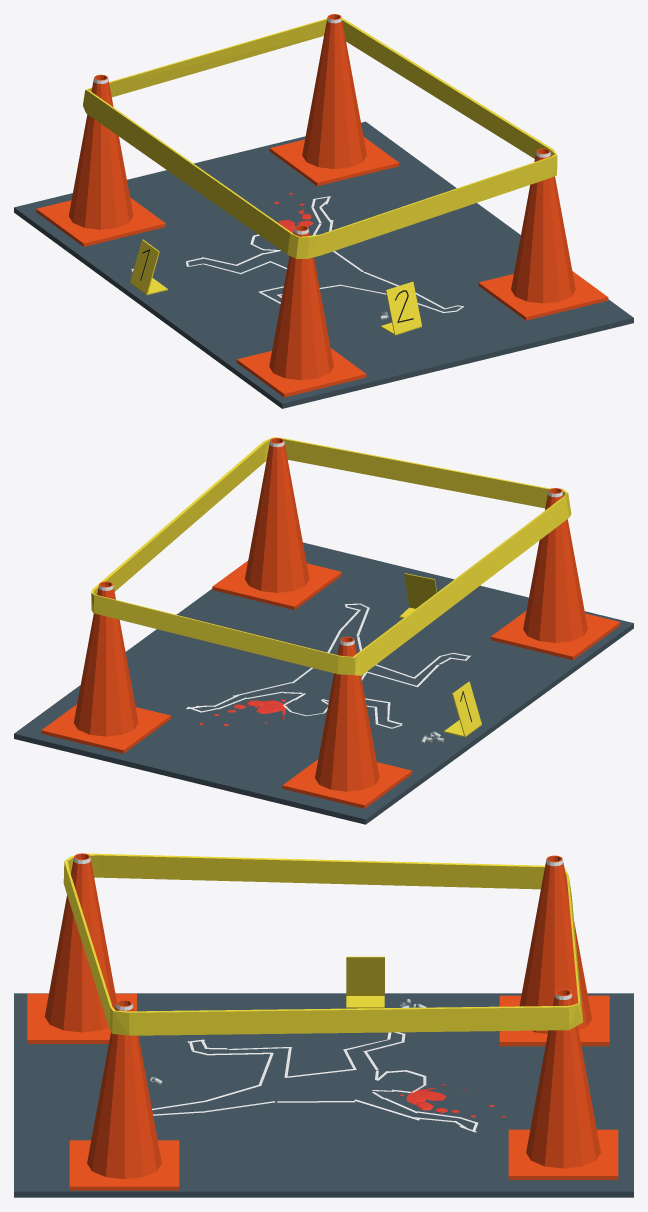
File: crime_scene.fbx
3 renders of one model, top to bottom at view 1: azimuth 30°, elevation 25°; view 2: azimuth 150°, elevation 25°; view 3: azimuth 270°, elevation 25°, orthographic. The views are drawn at different scales.
Visible parts, largest first — view 1: Node; view 2: Node; view 3: Node.
Boxes of the visible parts, <box> form: Node: <box>14,14,633,408</box>; Node: <box>14,437,633,824</box>; Node: <box>14,853,633,1197</box>.
Bounding box in the file's own units: 633 × 253 × 836.
